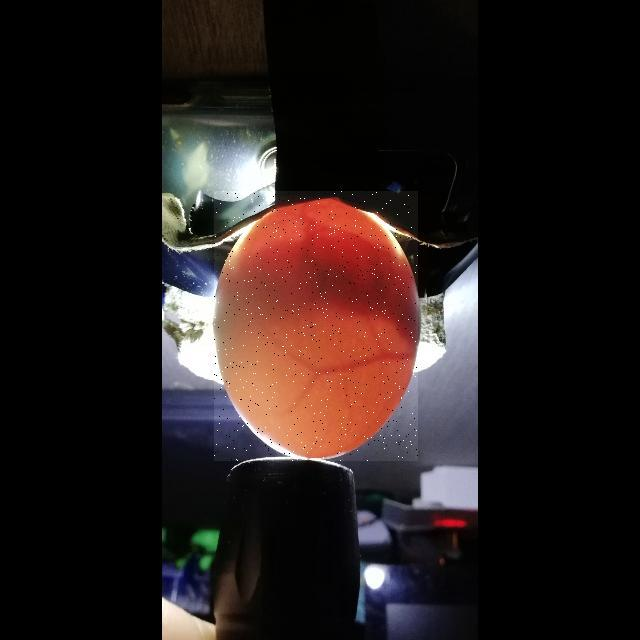Fertile: (214, 191, 418, 461)
